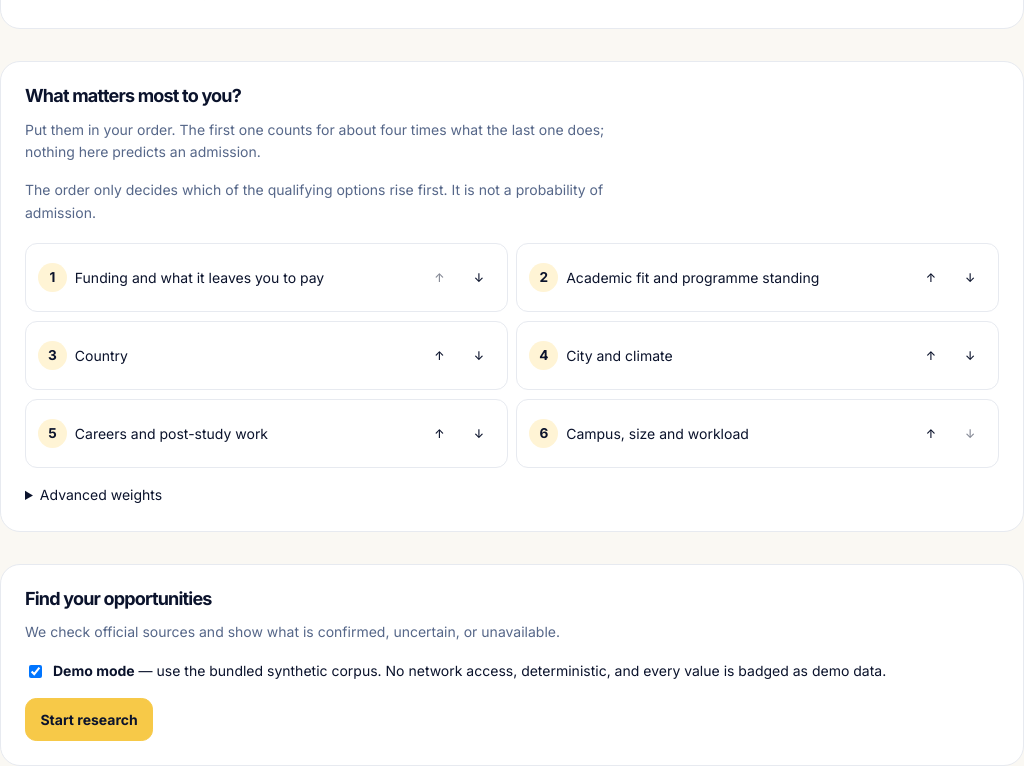
a demo server configured for kb (MODE-1) › localises the kb note in ru
This screenshot has width=1024, height=766.
(page scrolled)
Click the checkbox with test id "demo-toggle". click: (36, 671)
box: [29,665,42,678]
(page scrolled)
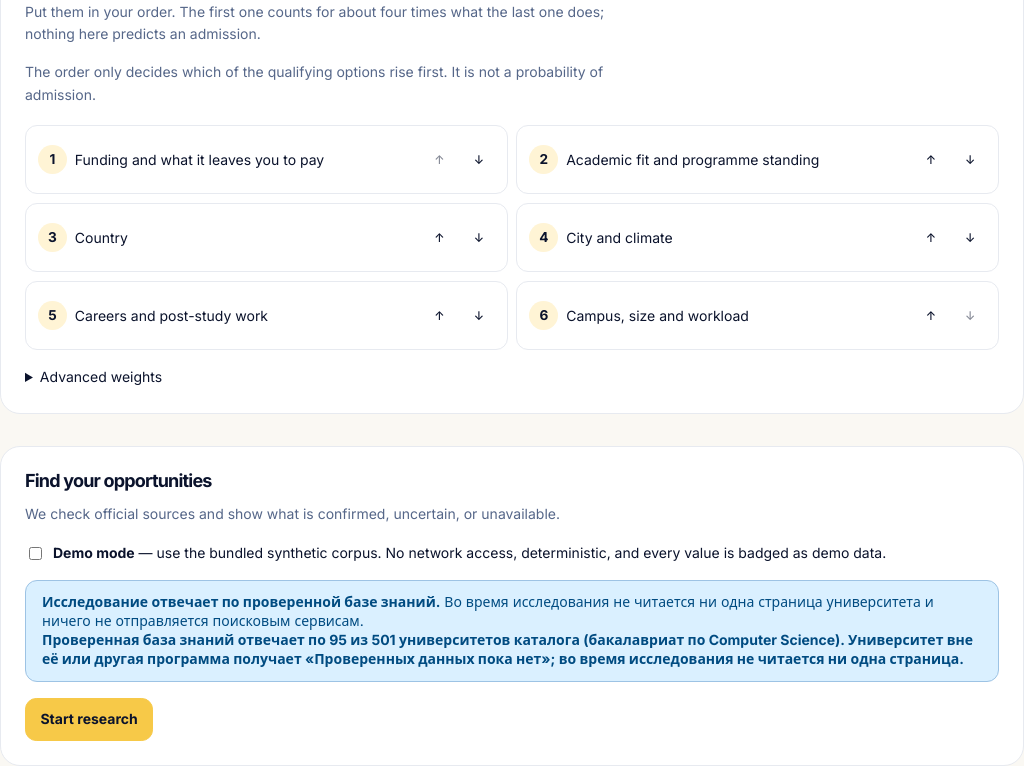
Check: the element with test id "kb-coverage" shows "Проверенная база знаний отвечает по 95 из 501 университетов каталога", box [42,631,973,667]
